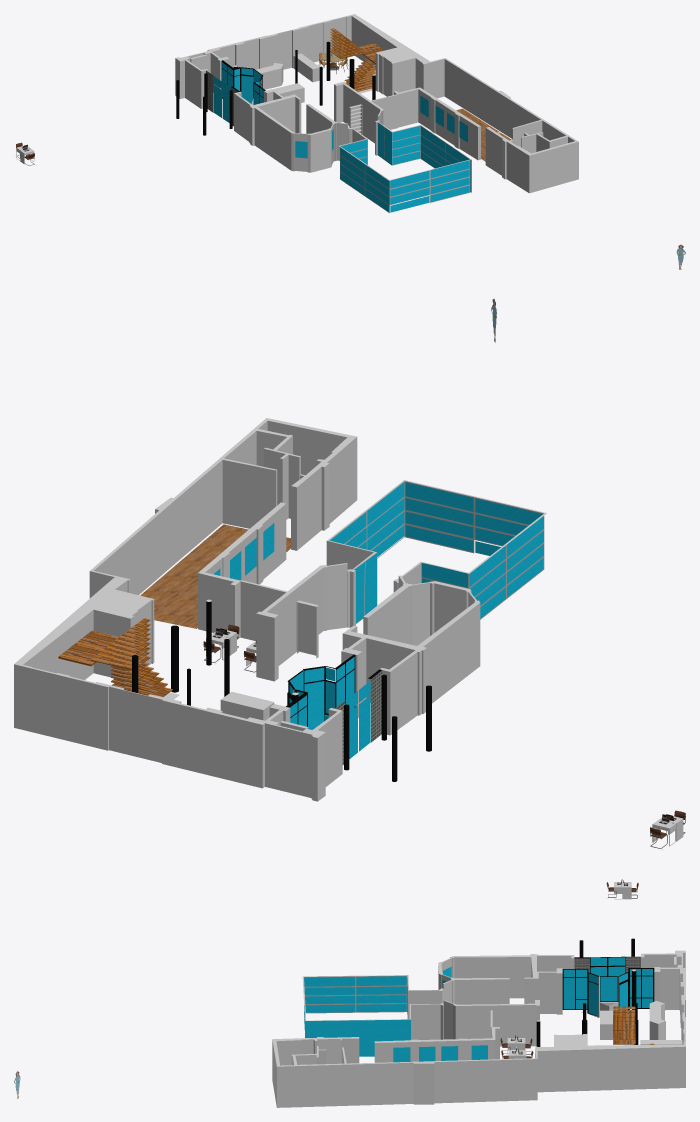
Rendered from bib.glb.
3 renders of one model, top to bottom at view 1: azimuth 30°, elevation 25°; view 2: azimuth 150°, elevation 25°; view 3: azimuth 270°, elevation 25°, orthographic. The views are drawn at different scales.
Visible parts, largest first — view 1: Geom3D (×14), Geom3D_Balie, Geom3D_Kast Balie; view 2: Geom3D (×16), Geom3D_rug; view 3: Geom3D (×15), Geom3D_Balie.
Part boxes in pixels (<box>): Geom3D (×14): <box>175,14,578,212</box>; Geom3D_Balie: <box>255,63,283,89</box>; Geom3D_Kast Balie: <box>293,53,319,82</box>; Geom3D (×16): <box>14,418,546,801</box>; Geom3D_rug: <box>297,602,315,654</box>; Geom3D (×15): <box>272,938,685,1107</box>; Geom3D_Balie: <box>649,1001,665,1039</box>.
Bounding box in the file's own units: 28.96 × 3.64 × 38.42.
Materials: 62 (32 with a texture image).
